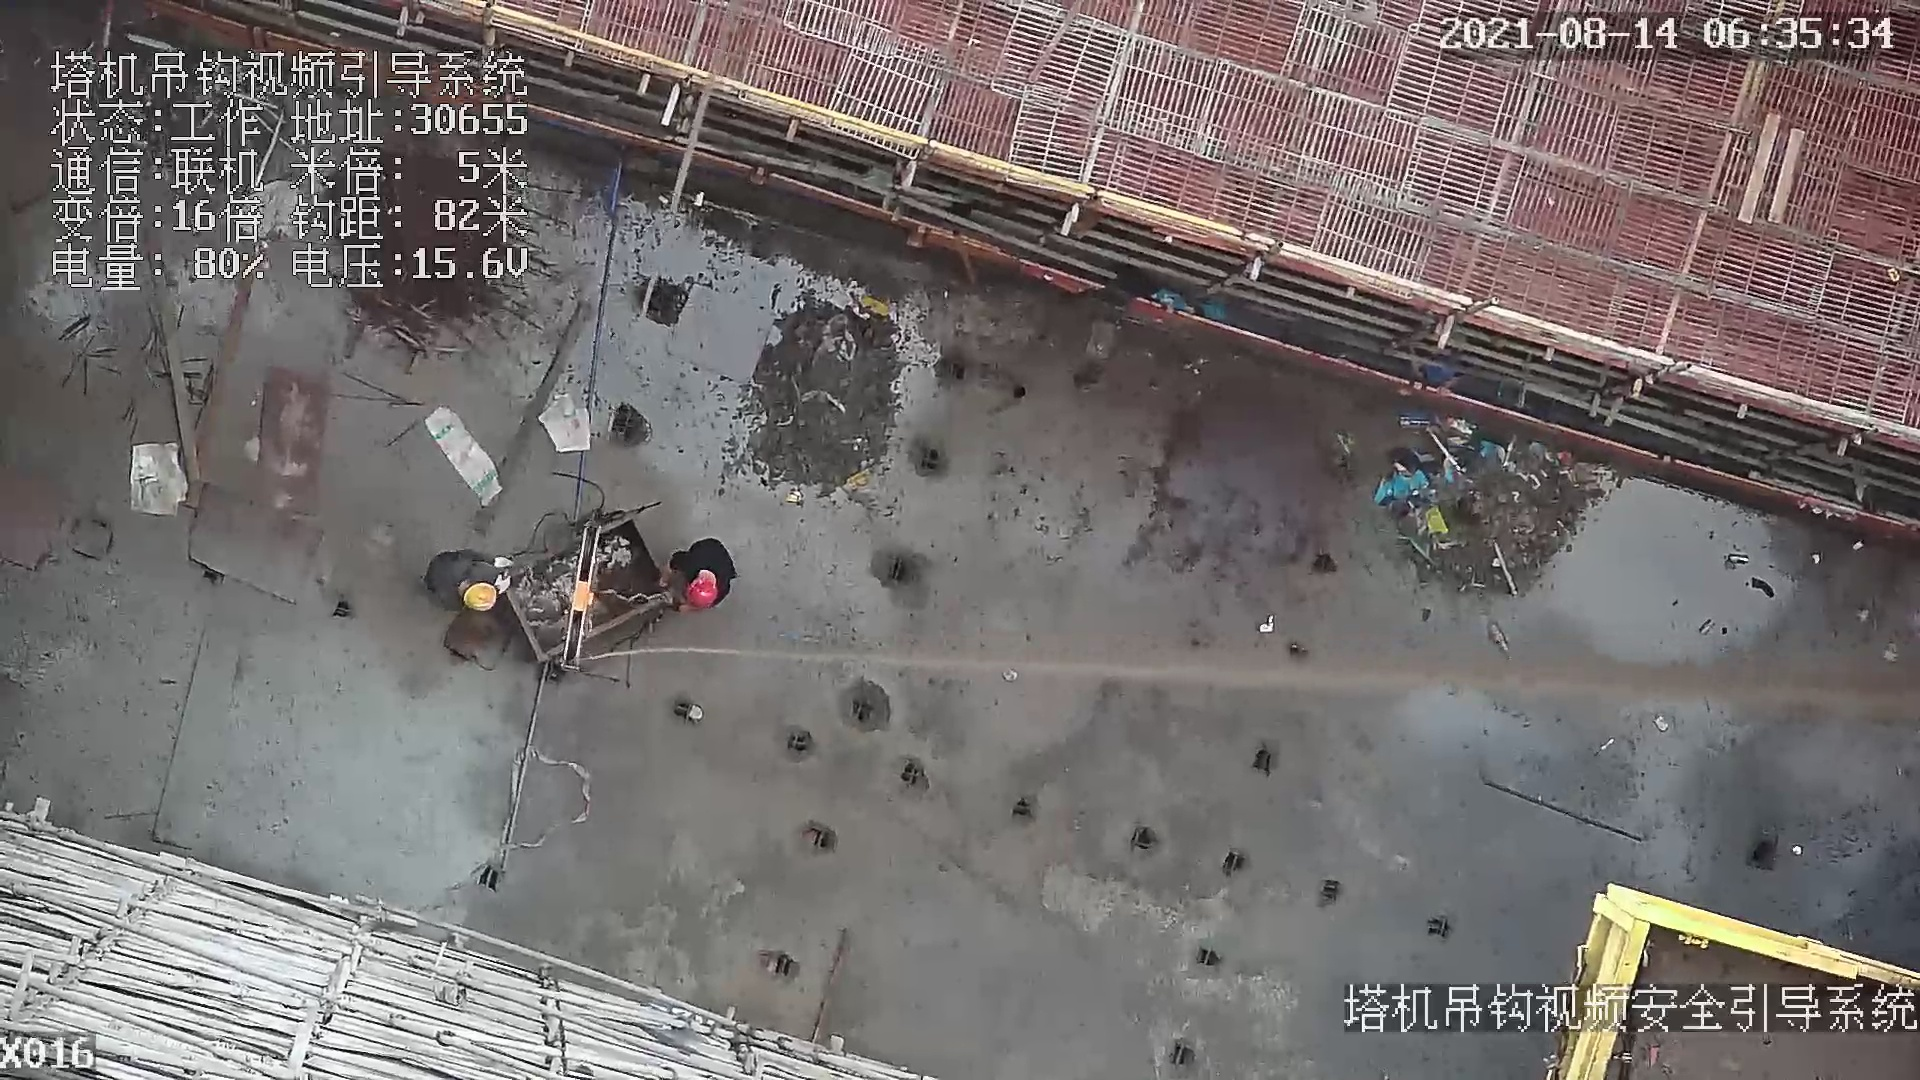helmet: (679, 569, 720, 614), (459, 585, 506, 615)
hook: (560, 519, 606, 671)
hopper: (494, 504, 683, 681)
person: (419, 546, 526, 622), (664, 537, 741, 623)
